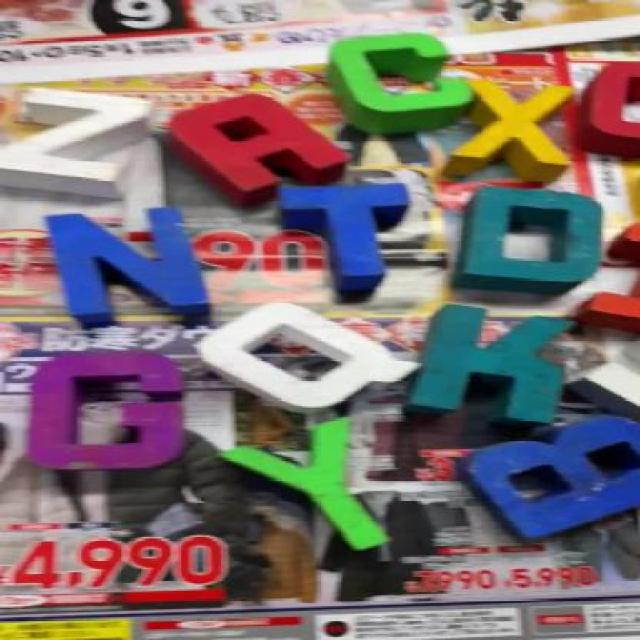A: (174, 94, 346, 195)
C: (326, 33, 471, 125)
D: (455, 188, 613, 286)
G: (38, 351, 193, 466)
K: (408, 307, 567, 424)
N: (41, 207, 214, 322)
Q: (196, 306, 412, 414)
T: (275, 180, 410, 282)
X: (462, 80, 576, 180)
Y: (222, 418, 392, 552)
Z: (4, 87, 156, 199)
